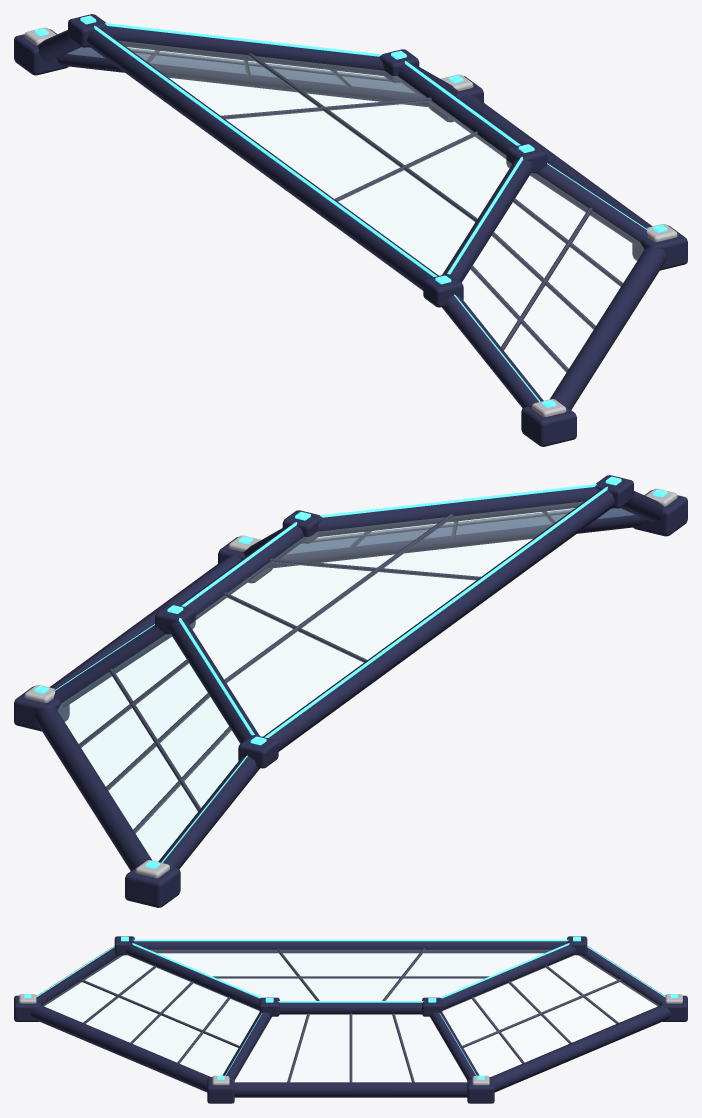
The model's file is BOW_canopy.glb.
3 renders of one model, top to bottom at view 1: azimuth 30°, elevation 25°; view 2: azimuth 150°, elevation 25°; view 3: azimuth 270°, elevation 25°, orthographic. The views are drawn at different scales.
Visible parts, largest first — view 1: BOW_canopy.001; view 2: BOW_canopy.001; view 3: BOW_canopy.001.
Part boxes in pixels (<box>): BOW_canopy.001: <box>14,14,687,446</box>; BOW_canopy.001: <box>14,475,687,907</box>; BOW_canopy.001: <box>14,936,687,1103</box>.
Bounding box in the file's own units: 3.29 × 1.07 × 9.28.
